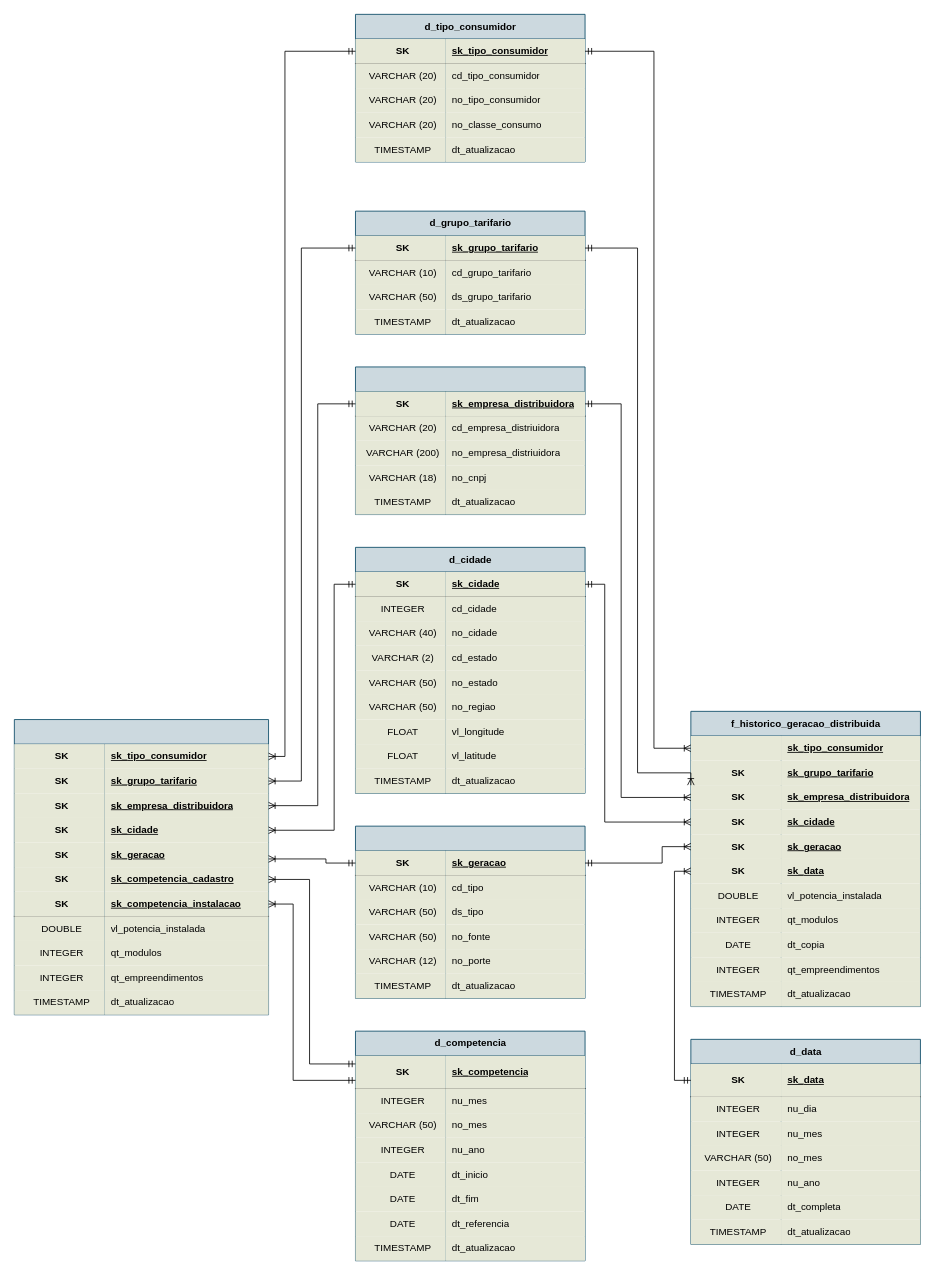
The diagram is 935 pixels wide and 1275 high, and some of its shapes have lost their labels. Each missing label, with the box of its shape:
d_empresa_distribuidora: (355, 366, 585, 515)
d_geracao: (355, 825, 585, 998)
f_geracao_distribuida: (14, 719, 269, 1015)
